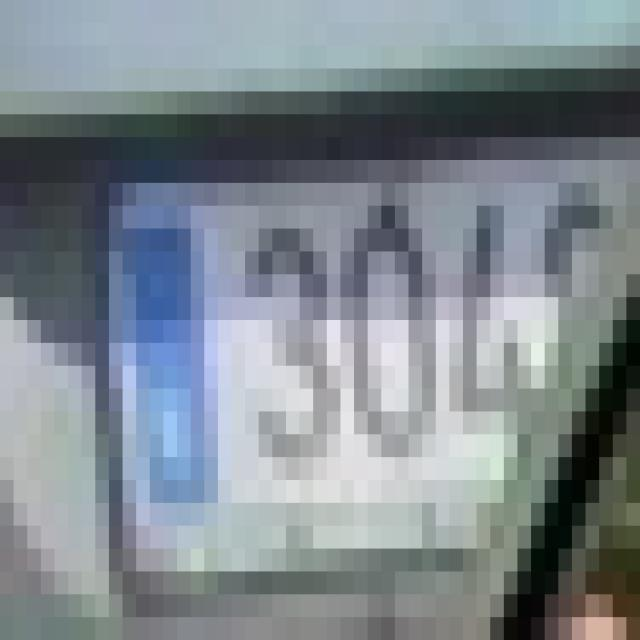licenseplate: (69, 108, 602, 610)
